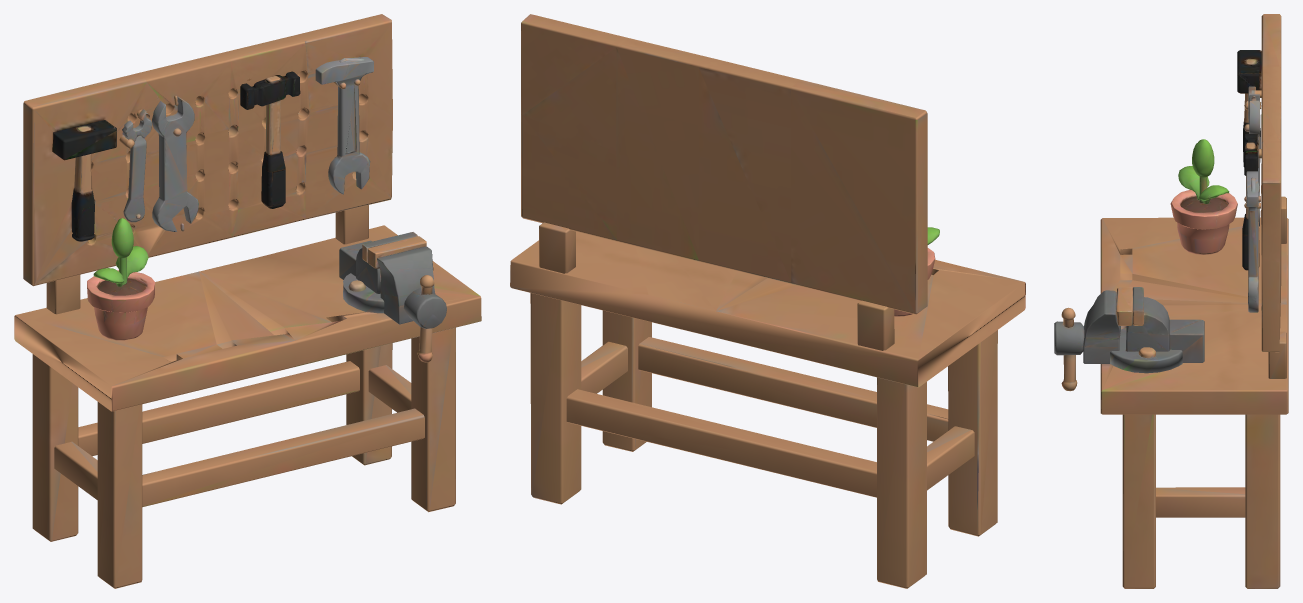
Rendered from workbench.glb.
3 views of the same model, side by side, from view 1: azimuth 30°, elevation 25°; view 2: azimuth 150°, elevation 25°; view 3: azimuth 270°, elevation 25° (orthographic). The views are drawn at different scales.
Bounding box in the file's own units: 0.8569 × 0.9526 × 0.4902.
1 material, 1 textured.
